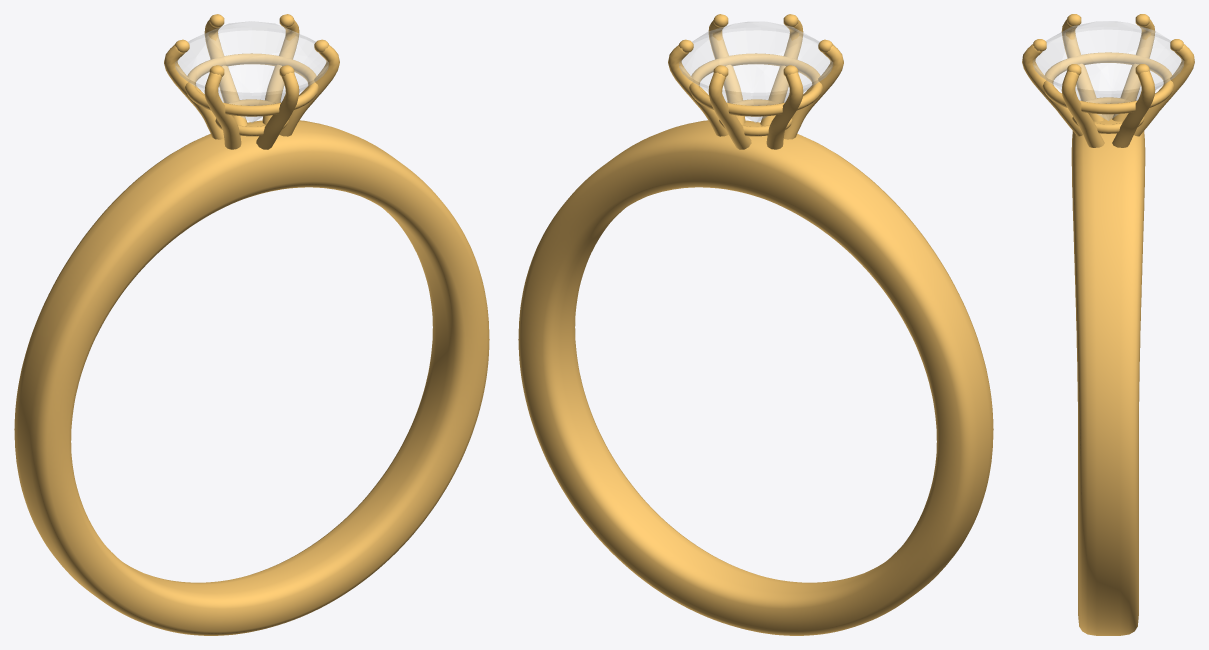
The model's file is ring-03.glb.
3 renders of one model, left to right at view 1: azimuth 30°, elevation 25°; view 2: azimuth 150°, elevation 25°; view 3: azimuth 270°, elevation 25°, orthographic.
Visible parts, largest first — view 1: Ring_03_Band, Ring_03_Head, Ring_03_Diamond; view 2: Ring_03_Band, Ring_03_Head, Ring_03_Diamond; view 3: Ring_03_Band, Ring_03_Head, Ring_03_Diamond.
Part boxes in pixels (left/top/right/bottom): Ring_03_Band: left=14, top=120, right=489, bottom=635; Ring_03_Head: left=164, top=14, right=339, bottom=149; Ring_03_Diamond: left=175, top=21, right=328, bottom=122; Ring_03_Band: left=518, top=120, right=993, bottom=635; Ring_03_Head: left=668, top=14, right=843, bottom=149; Ring_03_Diamond: left=679, top=22, right=832, bottom=122; Ring_03_Band: left=1071, top=114, right=1145, bottom=635; Ring_03_Head: left=1022, top=14, right=1194, bottom=147; Ring_03_Diamond: left=1033, top=21, right=1183, bottom=120.
Size of the model in its own units: 2.04 by 2.5 by 0.6816.
